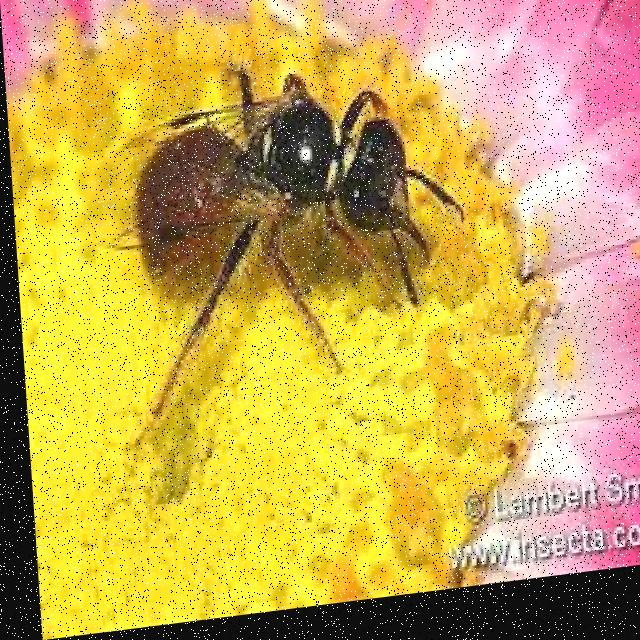Allodapula: (101, 43, 475, 444)
